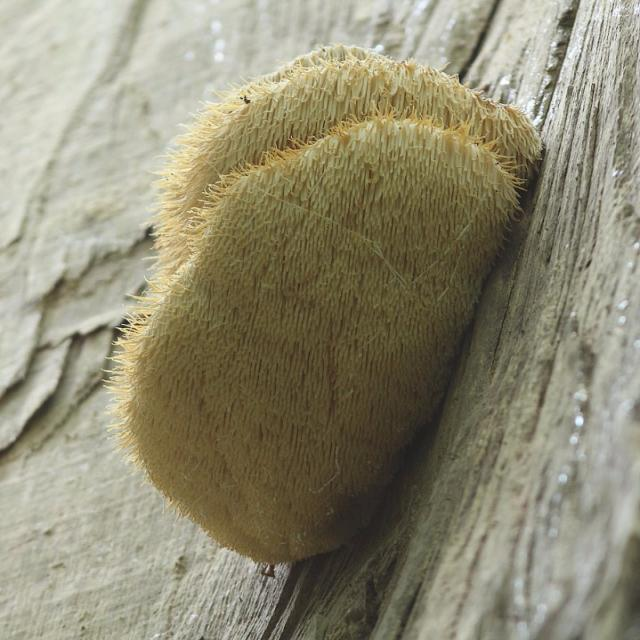Hericium erinaceus: (125, 48, 542, 565)
